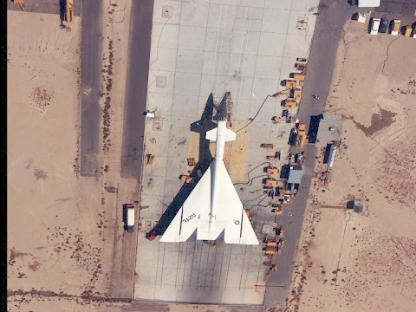U2: (158, 92, 260, 246)
